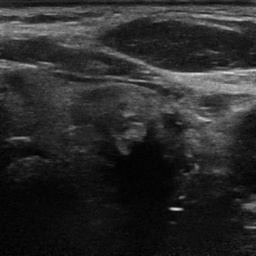mass: (72, 84, 187, 186)
